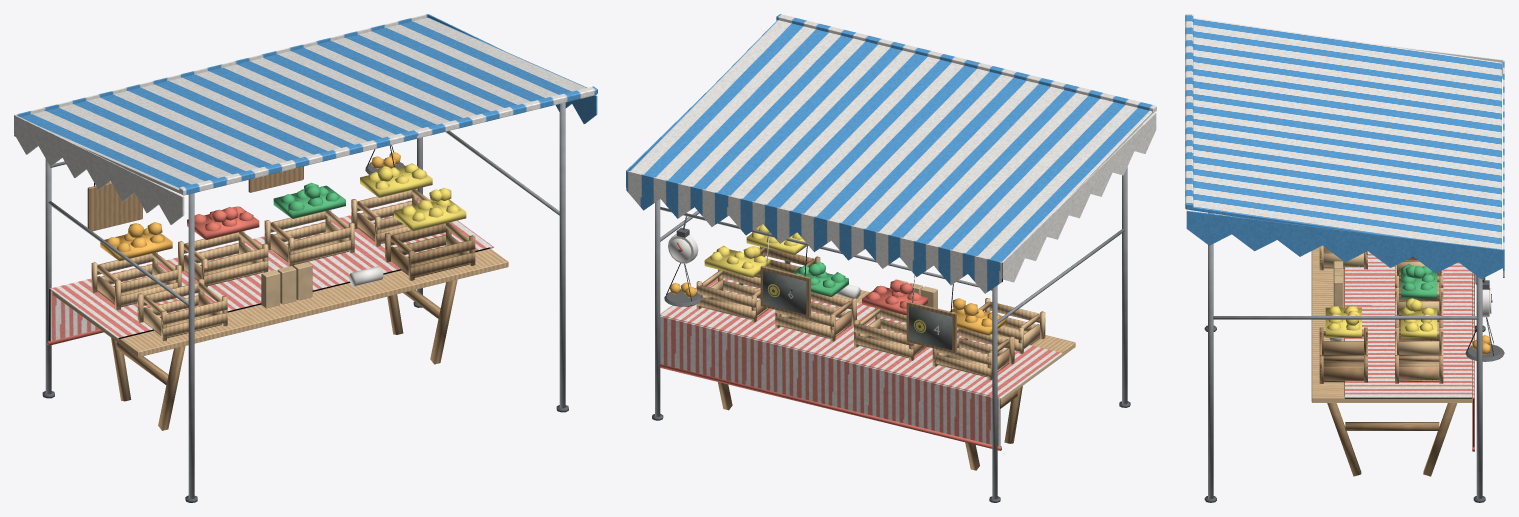
Rendered from Feira_StallBlue.fbx.
3 views of the same model, side by side, from view 1: azimuth 30°, elevation 25°; view 2: azimuth 150°, elevation 25°; view 3: azimuth 270°, elevation 25° (orthographic). The views are drawn at different scales.
Visible parts, largest first — view 1: Feira_StallBlue; view 2: Feira_StallBlue; view 3: Feira_StallBlue.
Part boxes in pixels (left/top/right/bottom): Feira_StallBlue: left=14, top=14, right=597, bottom=502; Feira_StallBlue: left=626, top=14, right=1156, bottom=502; Feira_StallBlue: left=1185, top=14, right=1504, bottom=502.
Size of the model in its own units: 3.36 by 2.52 by 2.38.
Materials: 1 (1 with a texture image).
